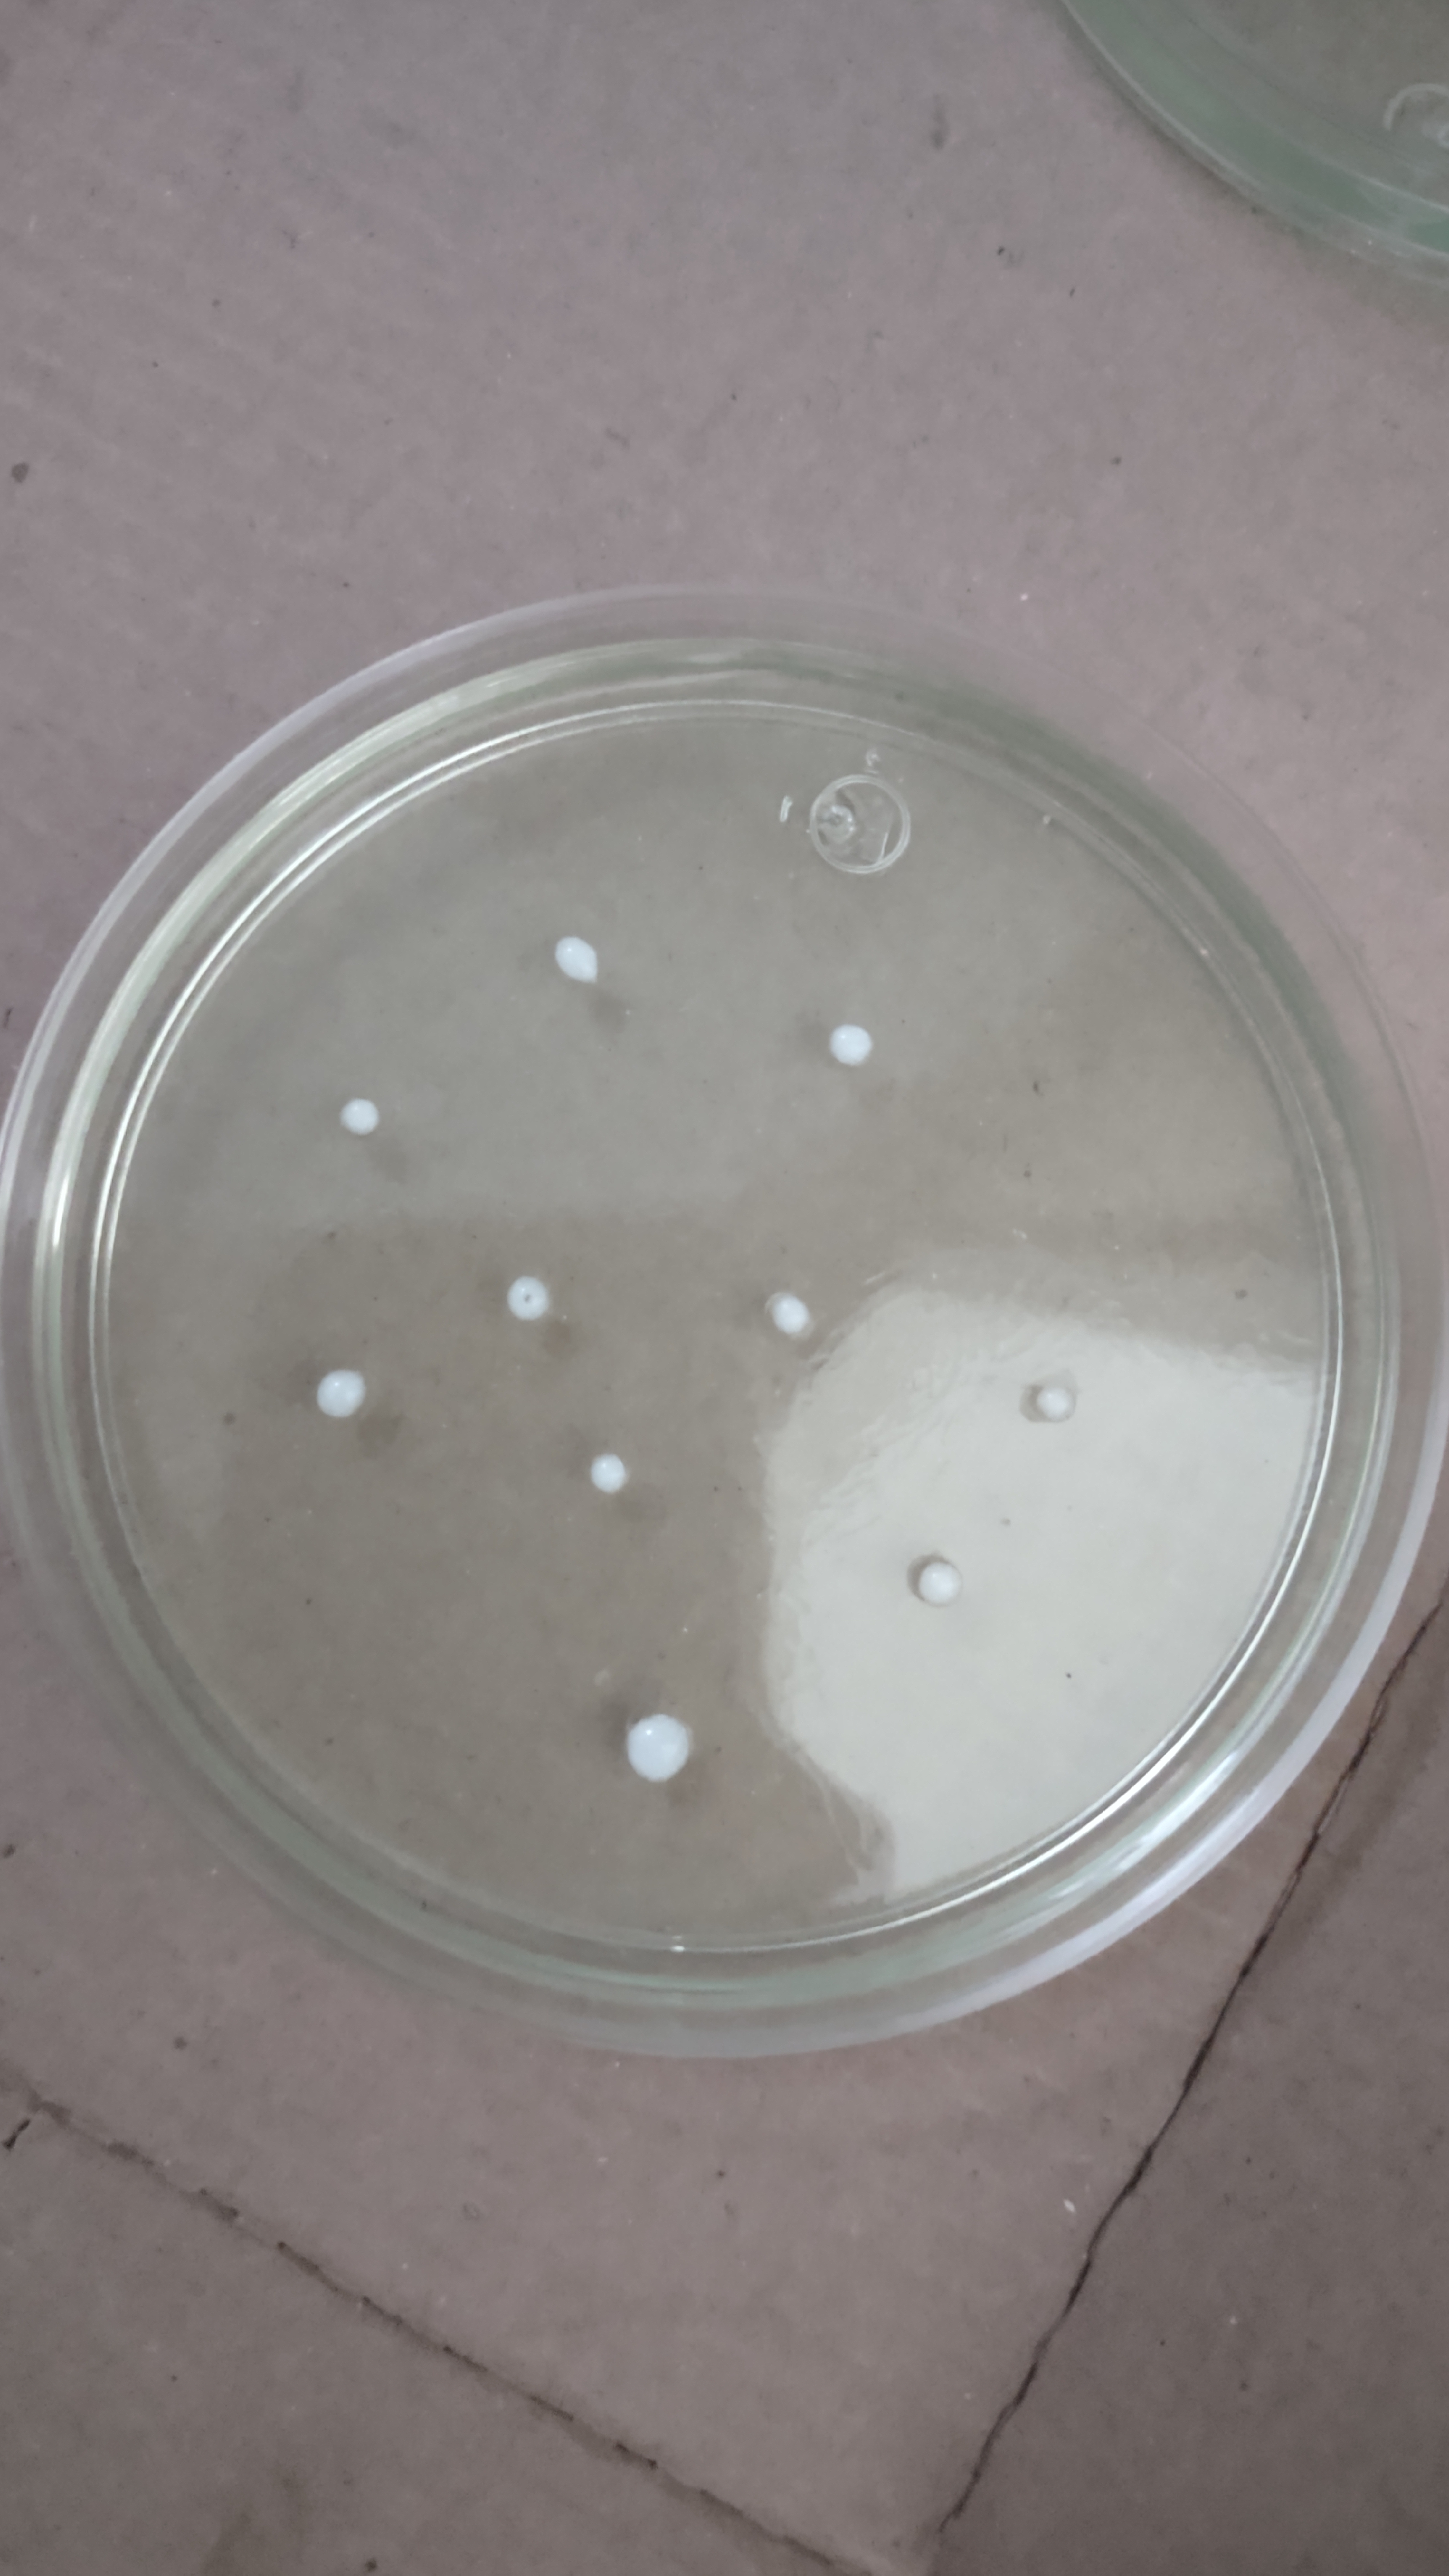Colonia: (621, 1706, 692, 1790), (334, 1092, 393, 1154), (545, 931, 603, 987), (766, 1283, 819, 1345), (504, 1274, 559, 1327), (915, 1552, 966, 1608), (315, 1368, 368, 1421), (1028, 1376, 1083, 1426), (824, 1021, 879, 1069), (587, 1444, 628, 1497)
